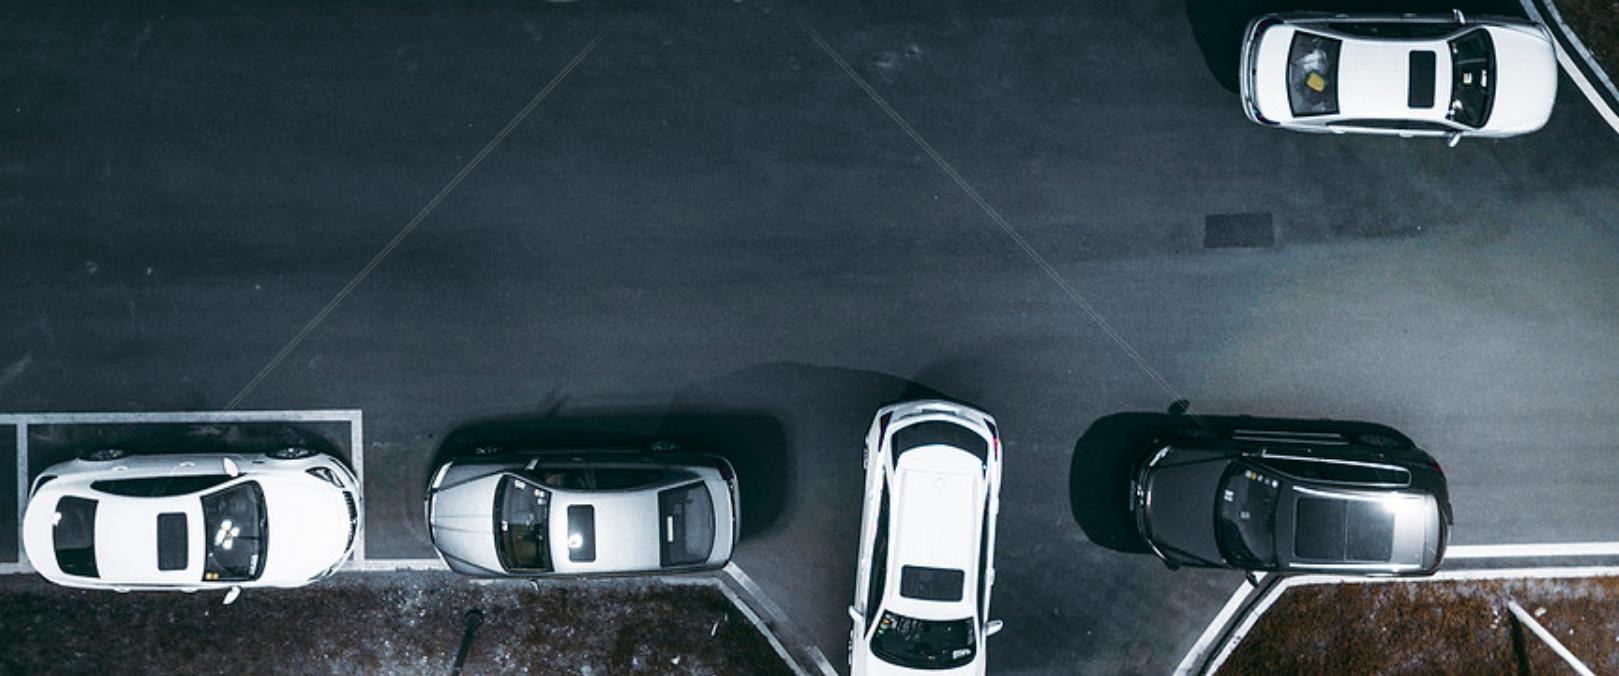car: (19, 437, 363, 608), (1119, 421, 1461, 590), (415, 439, 748, 592), (1224, 9, 1567, 151), (846, 394, 1002, 676)
